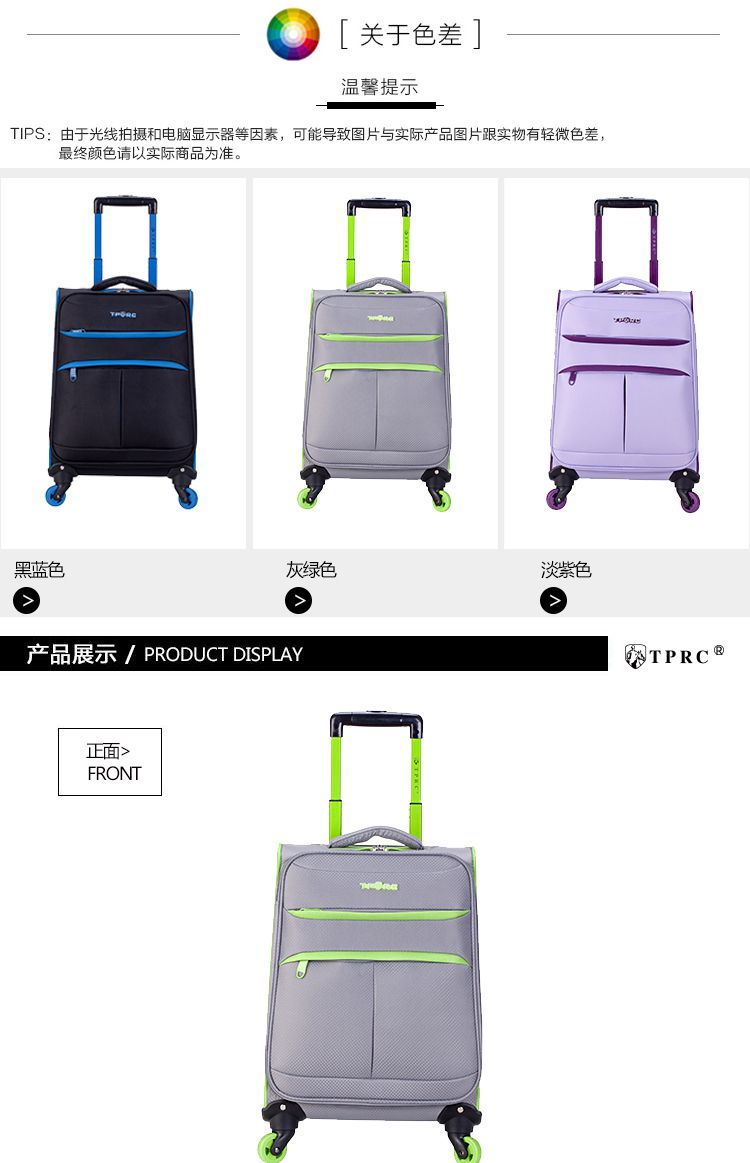suitcase: (254, 707, 488, 1163), (46, 193, 203, 512), (296, 196, 453, 515), (546, 194, 703, 513)
